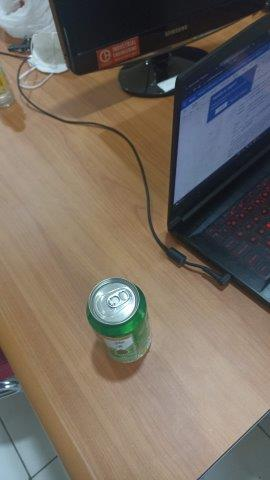kaleng: (89, 278, 152, 365)
